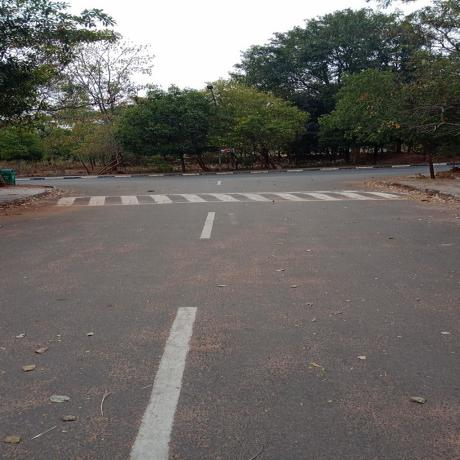Speed Bump: (55, 190, 423, 206)
